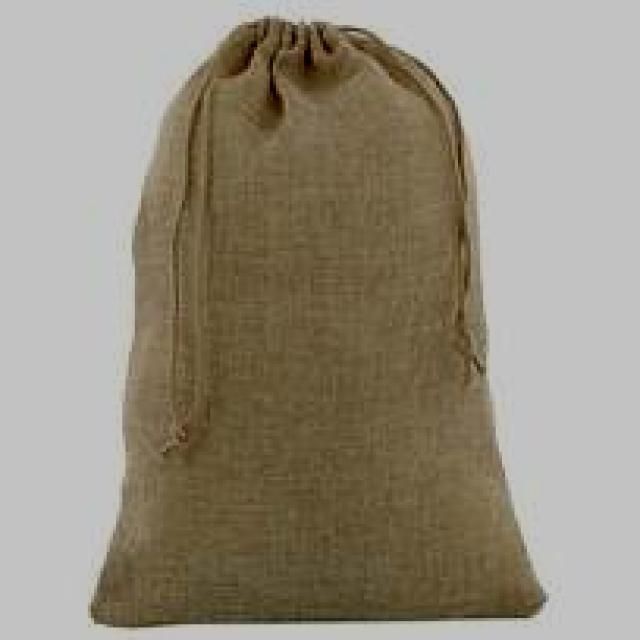gunny_bag: (80, 20, 546, 627)
